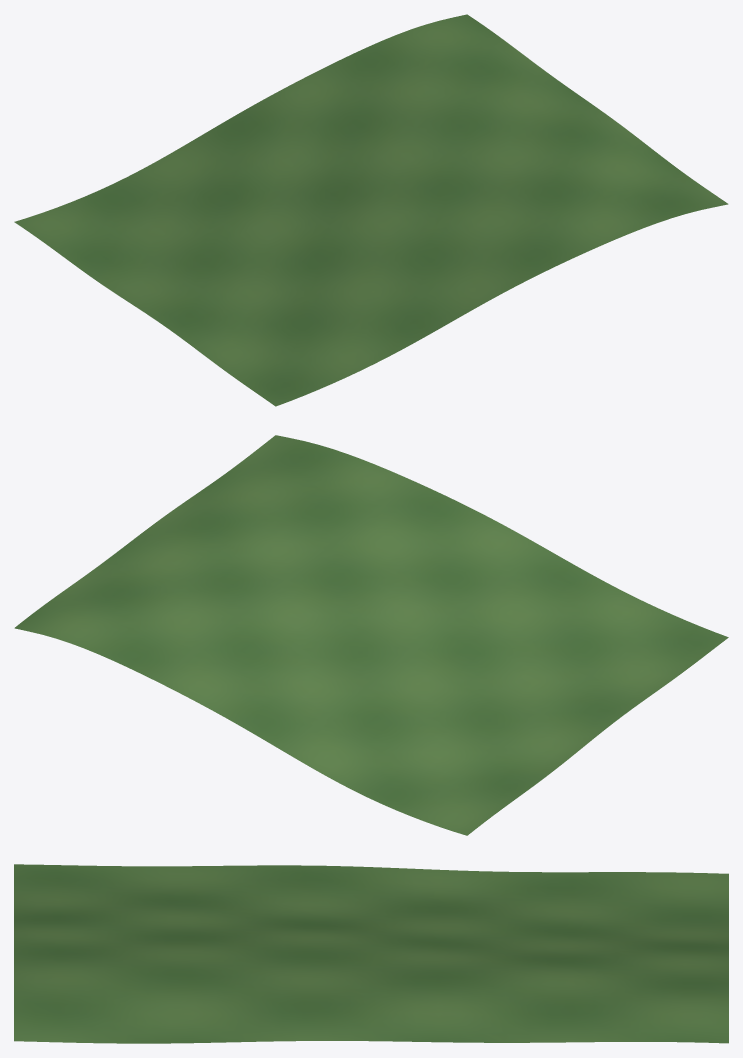
File: chunk_12_1.glb
3 renders of one model, top to bottom at view 1: azimuth 30°, elevation 25°; view 2: azimuth 150°, elevation 25°; view 3: azimuth 270°, elevation 25°, orthographic. The views are drawn at different scales.
Size of the model in its own units: 512 by 108 by 512.
